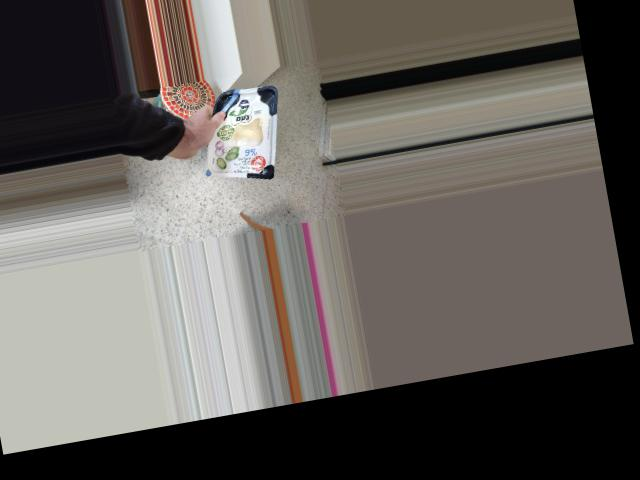cheese: (199, 77, 284, 189)
